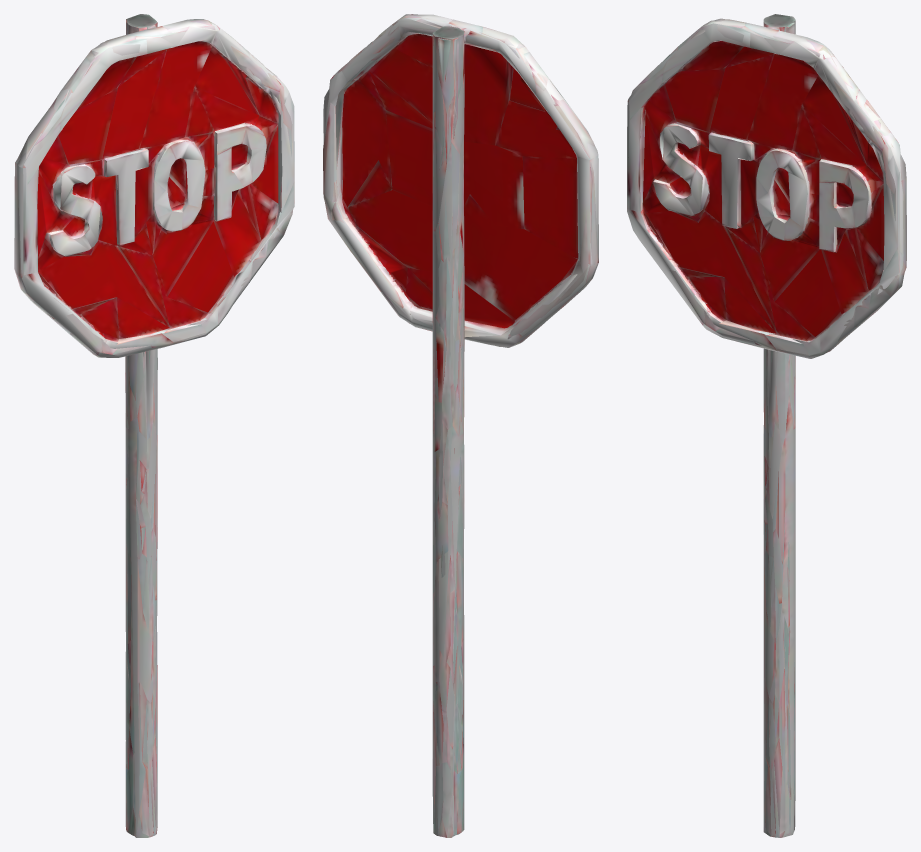
File: stop.glb
The picture shows the model from 3 angles, left to right: view 1: azimuth 30°, elevation 25°; view 2: azimuth 150°, elevation 25°; view 3: azimuth 330°, elevation 25°; orthographic projection.
Size of the model in its own units: 0.6704 by 1.9 by 0.1113.
1 material, 1 textured.
